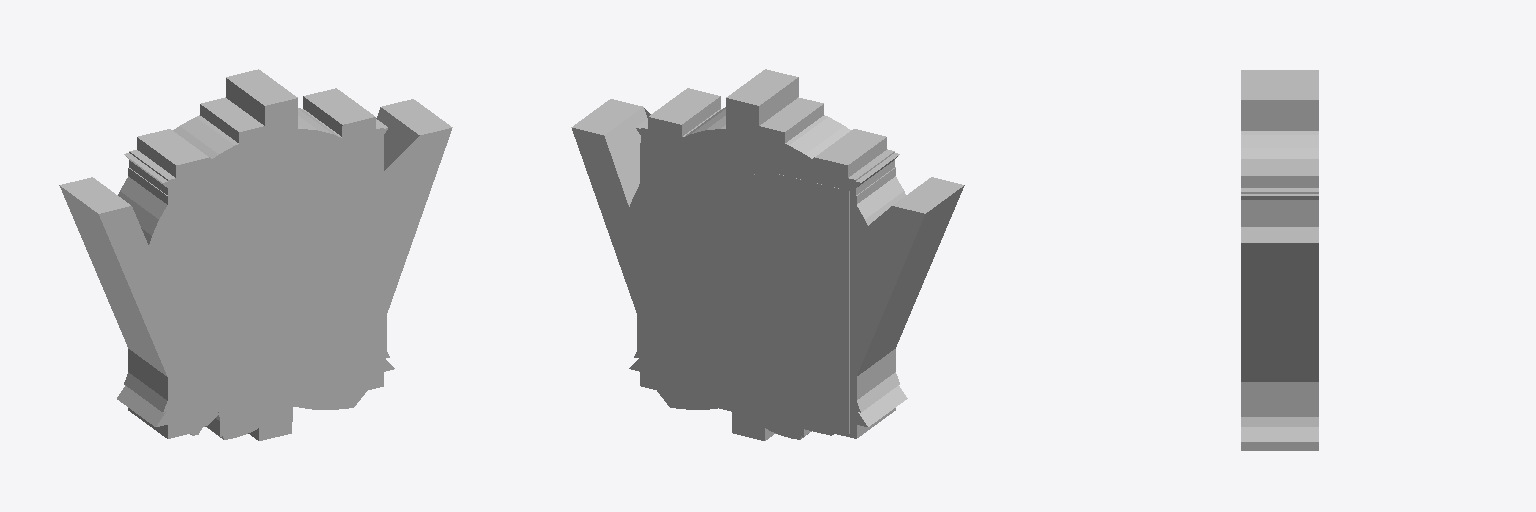
Rendered from newAlphabet.obj.
The picture shows the model from 3 angles: view 1: azimuth 30°, elevation 25°; view 2: azimuth 150°, elevation 25°; view 3: azimuth 270°, elevation 25°; orthographic projection.
Visible parts, largest first — view 1: Letter_W, Letter_G, Letter_N, Letter_Q, Letter_Z, Letter_U, Letter_O, Letter_B, Letter_J, Letter_A, Letter_M, Letter_L (+7 smaller); view 2: Letter_R, Letter_W, Letter_Q, Letter_U, Letter_C, Letter_J, Letter_M, Letter_L, Letter_X, Letter_N, Letter_T, Letter_A; view 3: Letter_W, Letter_C, Letter_J, Letter_U, Letter_Q, Letter_X, Letter_N, Letter_A, Letter_M.
Part boxes in pixels (bbox=[...]): Letter_W: bbox=[59, 99, 452, 435]; Letter_G: bbox=[174, 138, 385, 395]; Letter_N: bbox=[129, 122, 383, 422]; Letter_Q: bbox=[118, 108, 367, 409]; Letter_Z: bbox=[171, 129, 377, 421]; Letter_U: bbox=[137, 88, 375, 177]; Letter_O: bbox=[151, 147, 400, 402]; Letter_B: bbox=[208, 149, 365, 360]; Letter_J: bbox=[205, 69, 297, 439]; Letter_A: bbox=[124, 139, 389, 412]; Letter_M: bbox=[128, 144, 383, 438]; Letter_L: bbox=[200, 97, 272, 373]; Letter_R: bbox=[671, 174, 849, 433]; Letter_W: bbox=[571, 99, 964, 435]; Letter_Q: bbox=[631, 107, 905, 409]; Letter_U: bbox=[648, 88, 886, 354]; Letter_C: bbox=[637, 139, 784, 395]; Letter_J: bbox=[726, 69, 811, 439]; Letter_M: bbox=[640, 167, 895, 438]; Letter_L: bbox=[759, 97, 823, 143]; Letter_X: bbox=[629, 119, 907, 426]; Letter_N: bbox=[641, 122, 894, 422]; Letter_T: bbox=[732, 404, 775, 440]; Letter_A: bbox=[634, 351, 899, 412]; Letter_W: bbox=[1241, 70, 1318, 381]; Letter_C: bbox=[1241, 208, 1318, 416]; Letter_J: bbox=[1241, 84, 1318, 130]; Letter_U: bbox=[1241, 78, 1318, 187]; Letter_Q: bbox=[1241, 131, 1318, 158]; Letter_X: bbox=[1241, 194, 1318, 441]; Letter_N: bbox=[1241, 188, 1318, 207]; Letter_A: bbox=[1241, 417, 1318, 426]; Letter_M: bbox=[1241, 442, 1318, 450].
Bounding box in the file's own units: 1.04 × 0.938 × 0.2006.